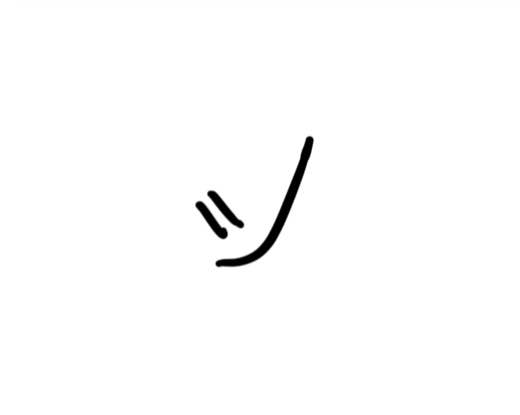shi: (179, 132, 318, 278)
